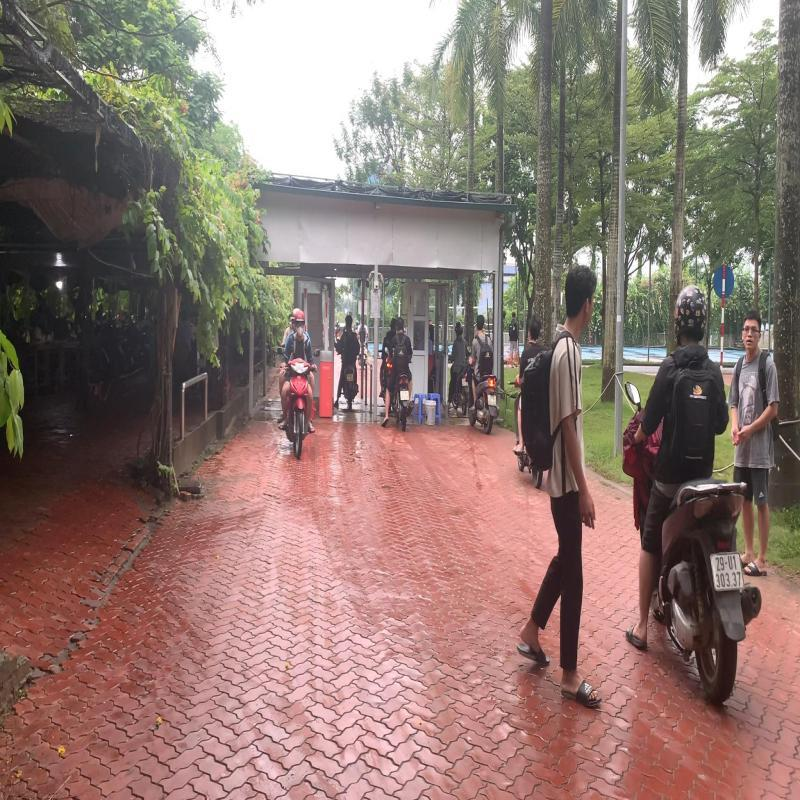nohelmet: (528, 312, 542, 346), (476, 316, 486, 334)
